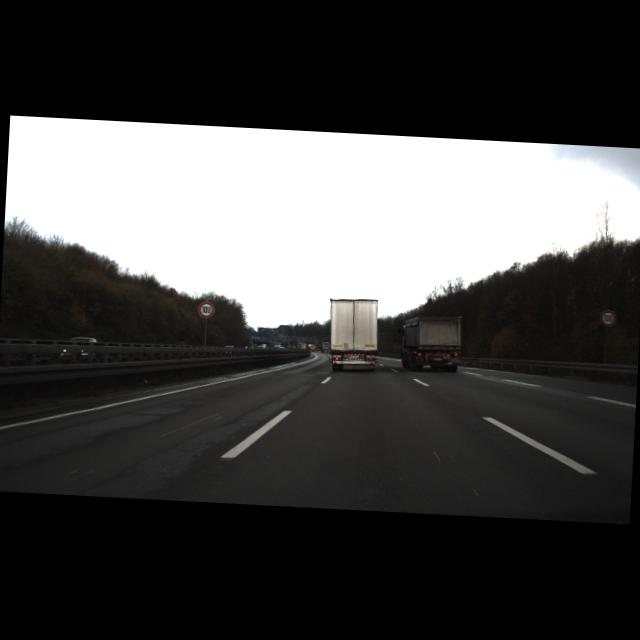prohibitory: (198, 301, 215, 319), (599, 310, 616, 326)
